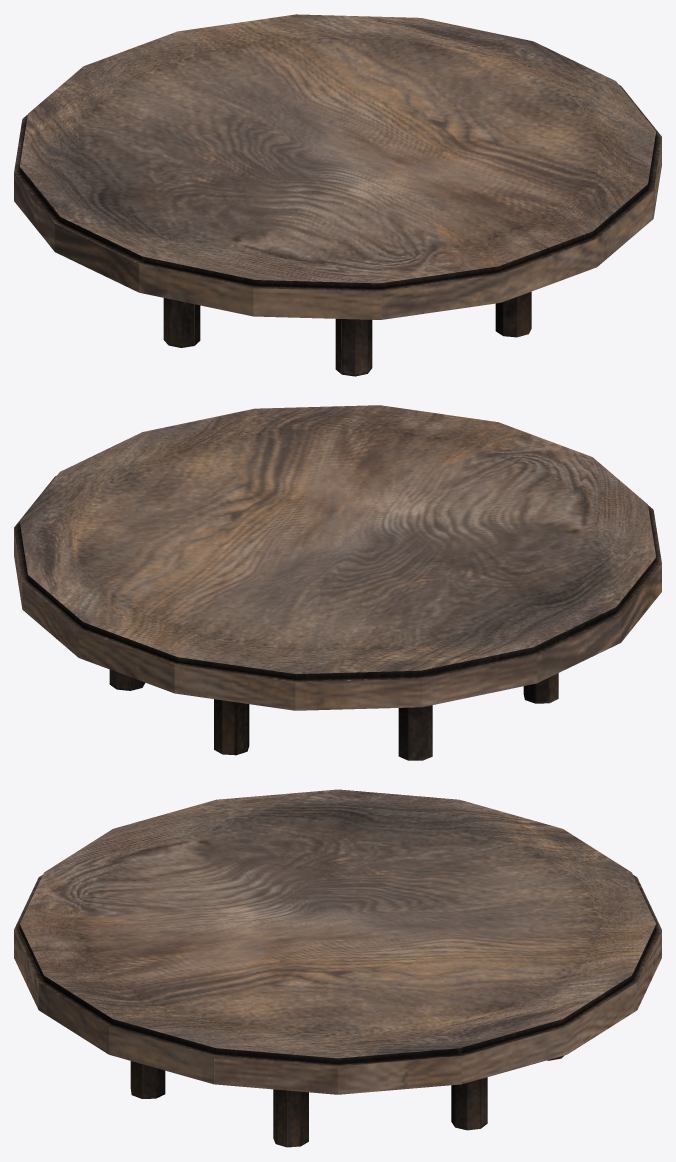
Rendered from Table.gltf.
3 views of the same model, one above another, from view 1: azimuth 30°, elevation 25°; view 2: azimuth 150°, elevation 25°; view 3: azimuth 270°, elevation 25° (orthographic).
Visible parts, largest first — view 1: Coffee Table; view 2: Coffee Table; view 3: Coffee Table.
Boxes of the visible parts, left/top/right/bottom form: Coffee Table: left=14, top=14, right=661, bottom=376; Coffee Table: left=14, top=405, right=661, bottom=760; Coffee Table: left=14, top=789, right=661, bottom=1147.
Bounding box in the file's own units: 1.85 × 0.4064 × 1.85.
1 material, 1 textured.
